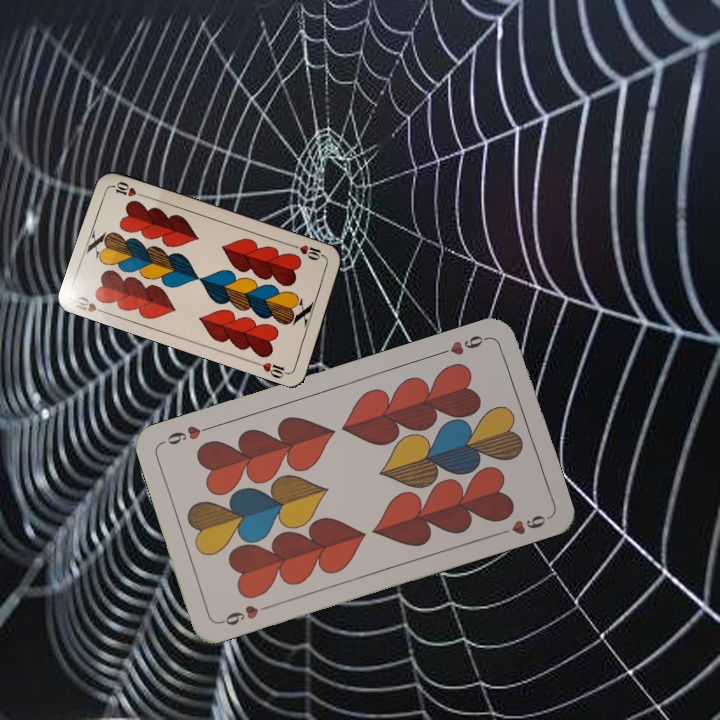H10: (70, 292, 110, 317), (289, 241, 329, 263)
H9: (216, 600, 273, 628), (435, 331, 492, 358)
